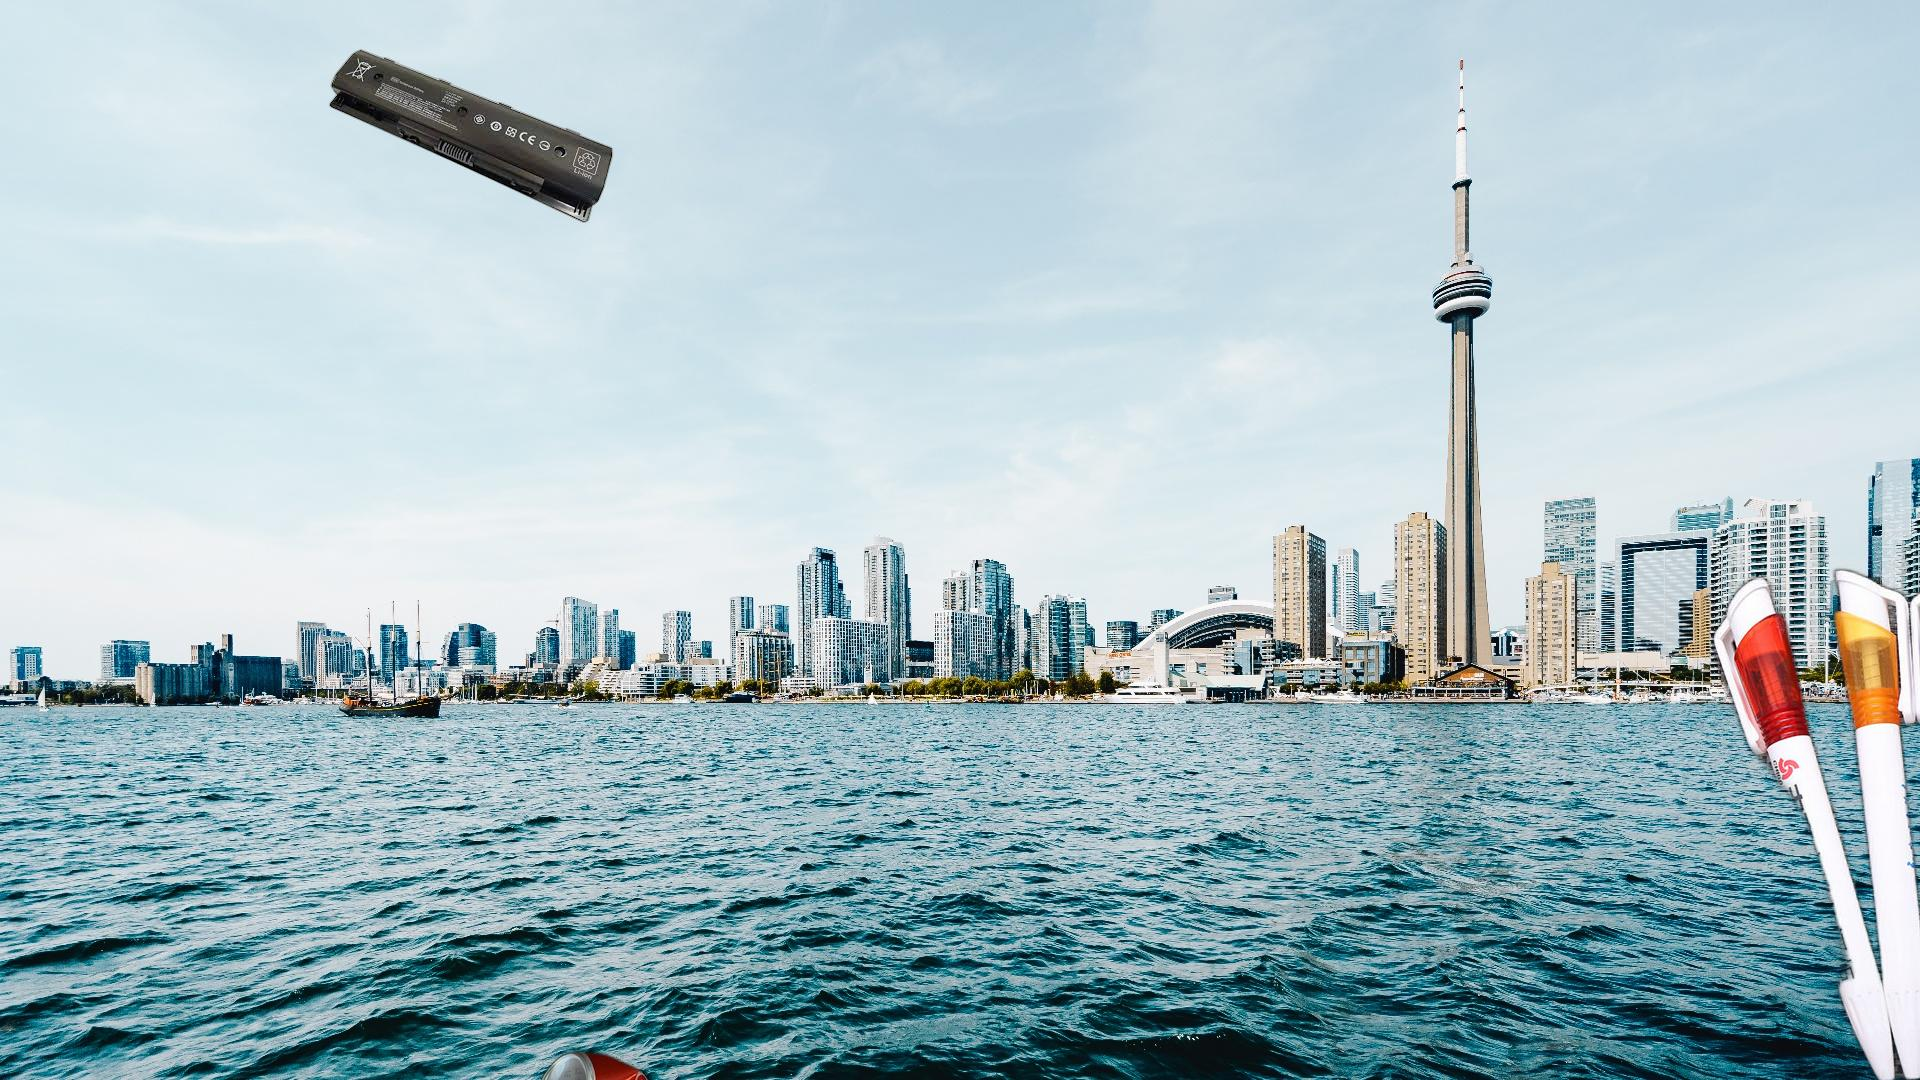battery: (328, 47, 615, 224)
metal-cans: (531, 1044, 684, 1080)
penholder: (1706, 419, 1920, 1080)
